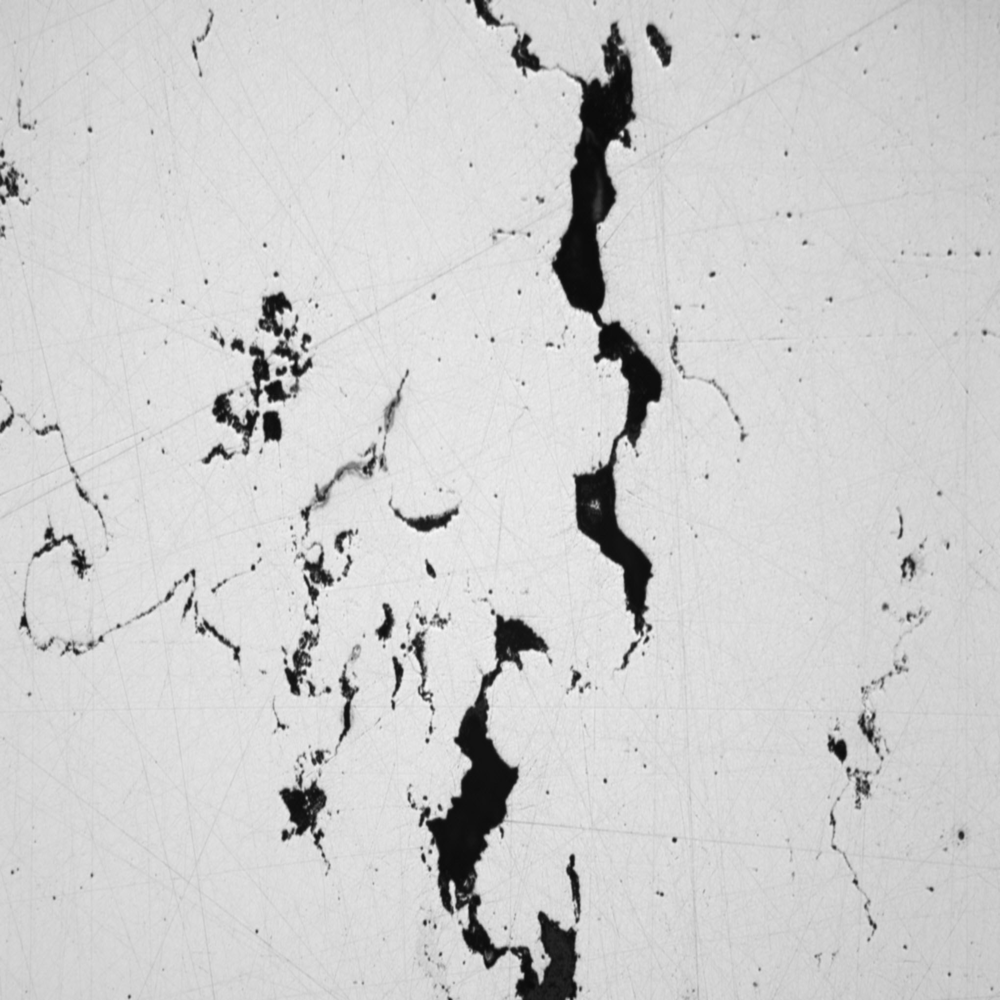crack: (9, 277, 597, 1000), (491, 8, 745, 676), (818, 518, 944, 960)
